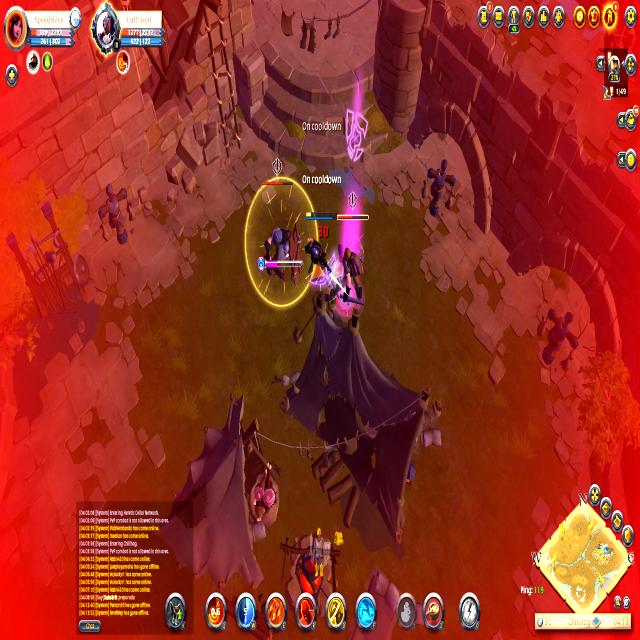ore: (253, 156, 300, 292), (333, 189, 371, 319)
red: (301, 208, 336, 287)
